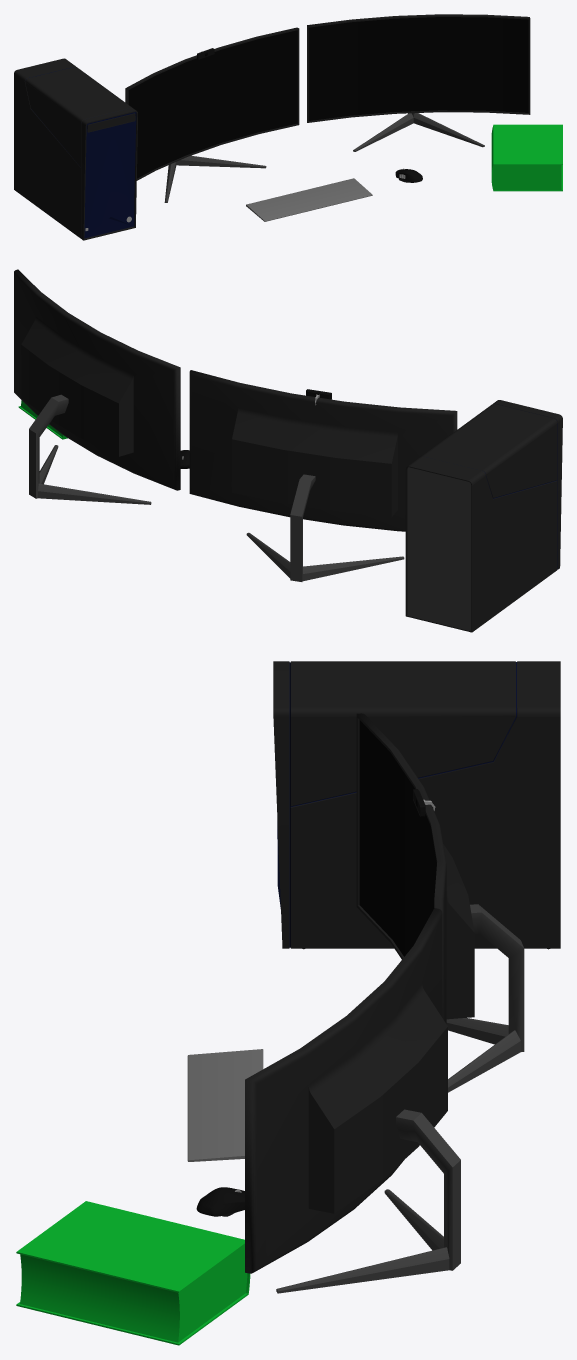
File: PersonalComputer.fbx
The picture shows the model from 3 angles, top to bottom: view 1: azimuth 30°, elevation 25°; view 2: azimuth 150°, elevation 25°; view 3: azimuth 270°, elevation 25°; orthographic projection. The views are drawn at different scales.
Parts seen in each view (by area): view 1: right_monitor (×2), tower (×3), left_monitor (×2), big book (×2), keyboard, right_monitor_leg, left_monitor_leg, Box001, Box005; view 2: tower (×2), left_monitor, right_monitor, left_monitor_leg, right_monitor_leg; view 3: tower (×2), right_monitor, big book (×2), left_monitor (×2), right_monitor_leg, keyboard, left_monitor_leg, Box005.
Part boxes in pixels (left/top/right/bottom): right_monitor (×2): left=307, top=14, right=530, bottom=122; tower (×3): left=14, top=58, right=137, bottom=240; left_monitor (×2): left=125, top=27, right=299, bottom=180; big book (×2): left=491, top=124, right=562, bottom=191; keyboard: left=246, top=178, right=372, bottom=221; right_monitor_leg: left=353, top=113, right=484, bottom=151; left_monitor_leg: left=164, top=155, right=266, bottom=202; Box001: left=87, top=113, right=135, bottom=132; Box005: left=395, top=169, right=422, bottom=182; tower (×2): left=405, top=400, right=562, bottom=632; left_monitor: left=189, top=370, right=457, bottom=531; right_monitor: left=14, top=269, right=180, bottom=490; left_monitor_leg: left=246, top=474, right=404, bottom=581; right_monitor_leg: left=29, top=394, right=151, bottom=504; tower (×2): left=273, top=661, right=560, bottom=948; right_monitor: left=245, top=908, right=447, bottom=1273; big book (×2): left=16, top=1201, right=250, bottom=1345; left_monitor (×2): left=356, top=713, right=474, bottom=1023; right_monitor_leg: left=276, top=1109, right=460, bottom=1293; keyboard: left=187, top=1049, right=263, bottom=1161; left_monitor_leg: left=446, top=904, right=524, bottom=1092; Box005: left=196, top=1187, right=244, bottom=1216.
Bounding box in the file's own units: 1090 × 296 × 566.
